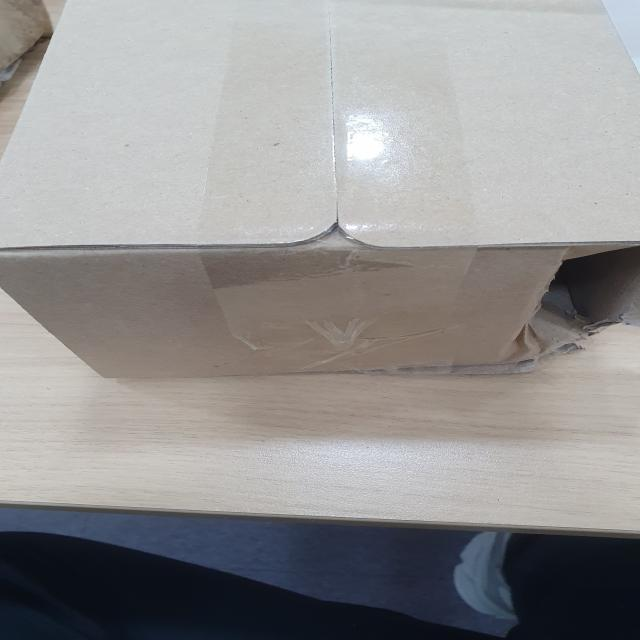hole: (511, 232, 639, 368)
